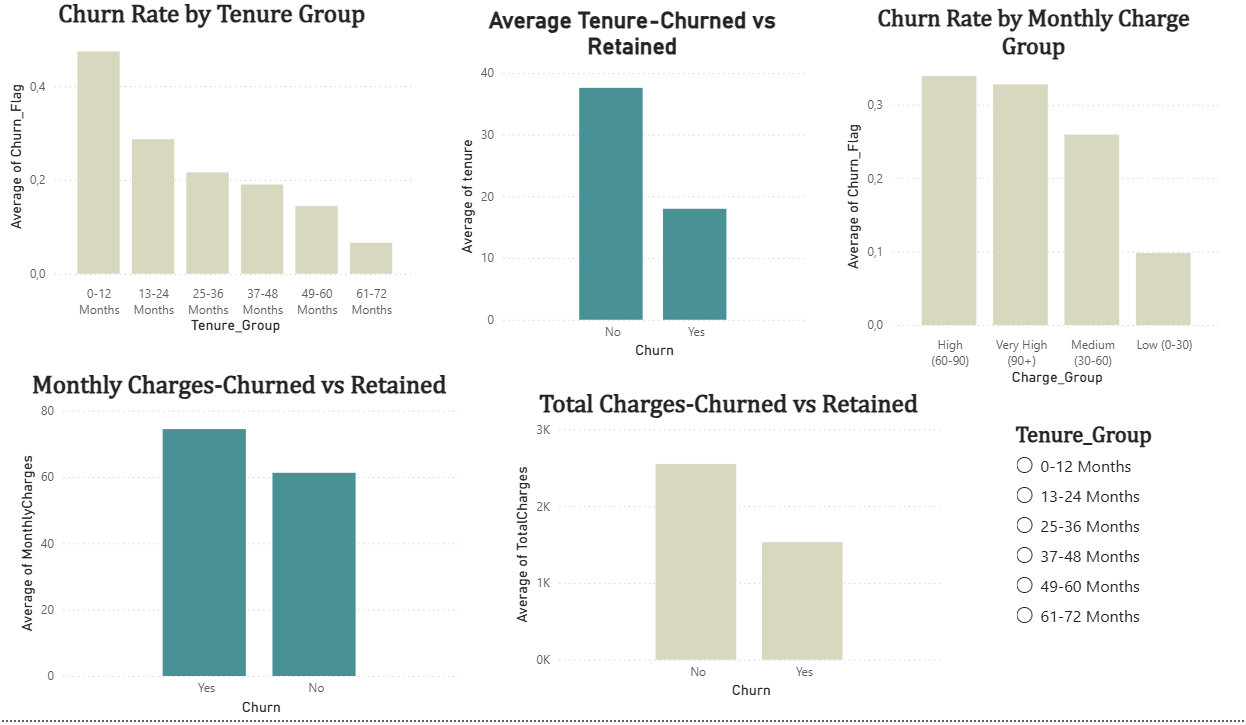

This screenshot's page, from the dashboard's own definition file:
{"tool":"powerbi","page":{"name":"Tenure and Lifetime Analysis","canvas":[1280,720],"ordinal":1},"visuals":[{"type":"clusteredColumnChart","title":" Churn Rate by Tenure Group","fields":{"Category":["cleaned_churn_data.Tenure_Group"],"Y":["Avg(cleaned_churn_data.Churn_Flag)"]},"box":[10,0,417.5,338.8],"z":0},{"type":"clusteredColumnChart","title":" Average Tenure-Churned vs Retained","fields":{"Category":["cleaned_churn_data.Churn"],"Y":["Avg(cleaned_churn_data.tenure)"]},"box":[461.2,6.2,356.2,357.5],"z":1000},{"type":"clusteredColumnChart","title":" Churn Rate by Monthly Charge Group","fields":{"Category":["cleaned_churn_data.Charge_Group"],"Y":["Avg(cleaned_churn_data.Churn_Flag)"]},"box":[847.5,6.2,386.2,383.8],"z":2000},{"type":"clusteredColumnChart","title":" Monthly Charges-Churned vs Retained","fields":{"Category":["cleaned_churn_data.Churn"],"Y":["Avg(cleaned_churn_data.MonthlyCharges)"]},"box":[21.2,371.2,450,348.8],"z":3000},{"type":"listSlicer","fields":{"Values":["cleaned_churn_data.Tenure_Group"]},"box":[1017.5,422.5,216.2,248.8],"z":4000},{"type":"clusteredColumnChart","title":" Total Charges-Churned vs Retained","fields":{"Category":["cleaned_churn_data.Churn"],"Y":["Avg(cleaned_churn_data.TotalCharges)"]},"box":[516.2,390,438.8,313.8],"z":5000}]}

Visuals, with their boxes on the page's 1280x720 design canvas (x1, y1, x2, y2). These are canvas units, not pixel positions in the 1246x725 screenshot, which may show the page scaled, cropped or inside an application window:
" Churn Rate by Tenure Group" clusteredColumnChart: l=10, t=0, r=428, b=339
" Average Tenure-Churned vs Retained" clusteredColumnChart: l=461, t=6, r=817, b=364
" Churn Rate by Monthly Charge Group" clusteredColumnChart: l=848, t=6, r=1234, b=390
" Monthly Charges-Churned vs Retained" clusteredColumnChart: l=21, t=371, r=471, b=720
listSlicer - cleaned_churn_data.Tenure_Group: l=1018, t=422, r=1234, b=671
" Total Charges-Churned vs Retained" clusteredColumnChart: l=516, t=390, r=955, b=704
